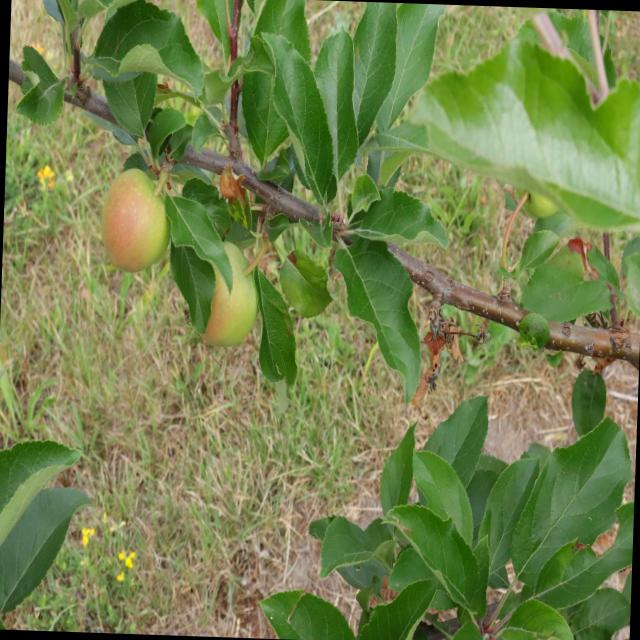-FireBlight-: (416, 304, 488, 402)
